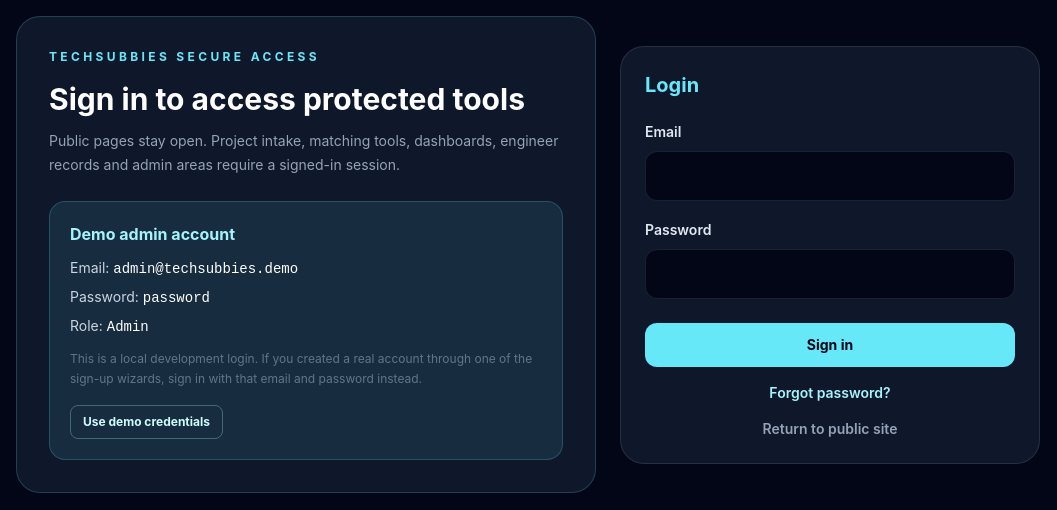
sign-in page › starts empty and fills demo credentials only when requested
This screenshot has width=1057, height=510.
Check: the field labelled "Email" is empty, box [645,150,1015,200]
Check: the password field labelled "Password" is empty, box [645,248,1015,298]
Click the button "Use demo credentials" at (146, 422), box [70,405,223,439]
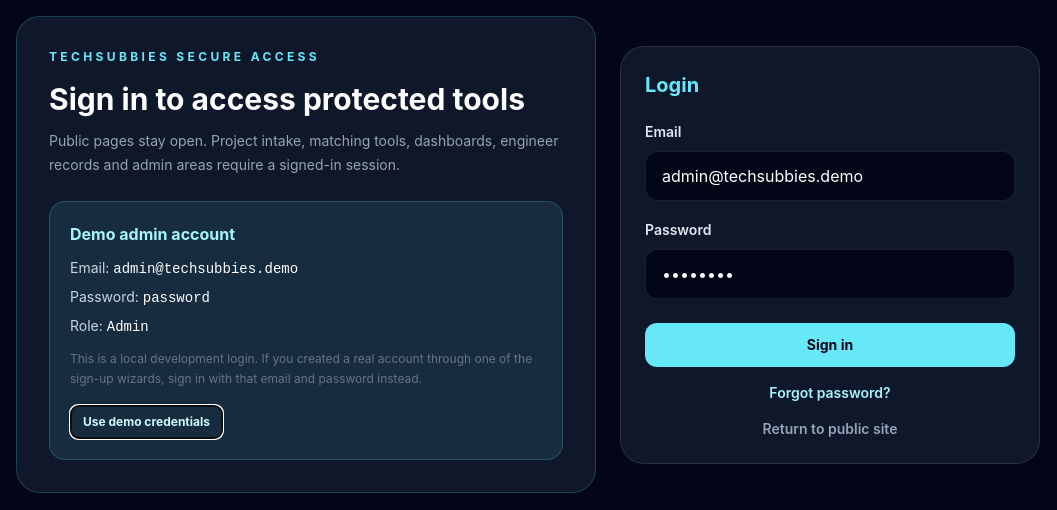
Check: the field labelled "Email" holds "admin@techsubbies.demo", box [645,150,1015,200]
Check: the password field labelled "Password" holds "password", box [645,248,1015,298]
